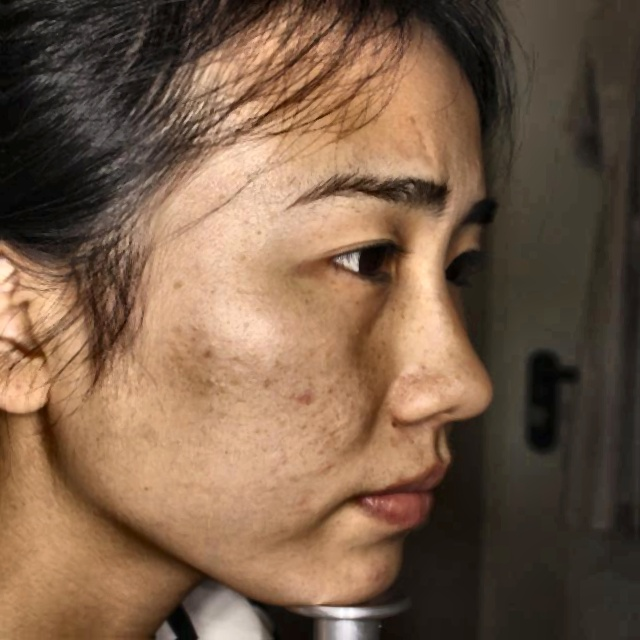comedone: (298, 384, 324, 411)
